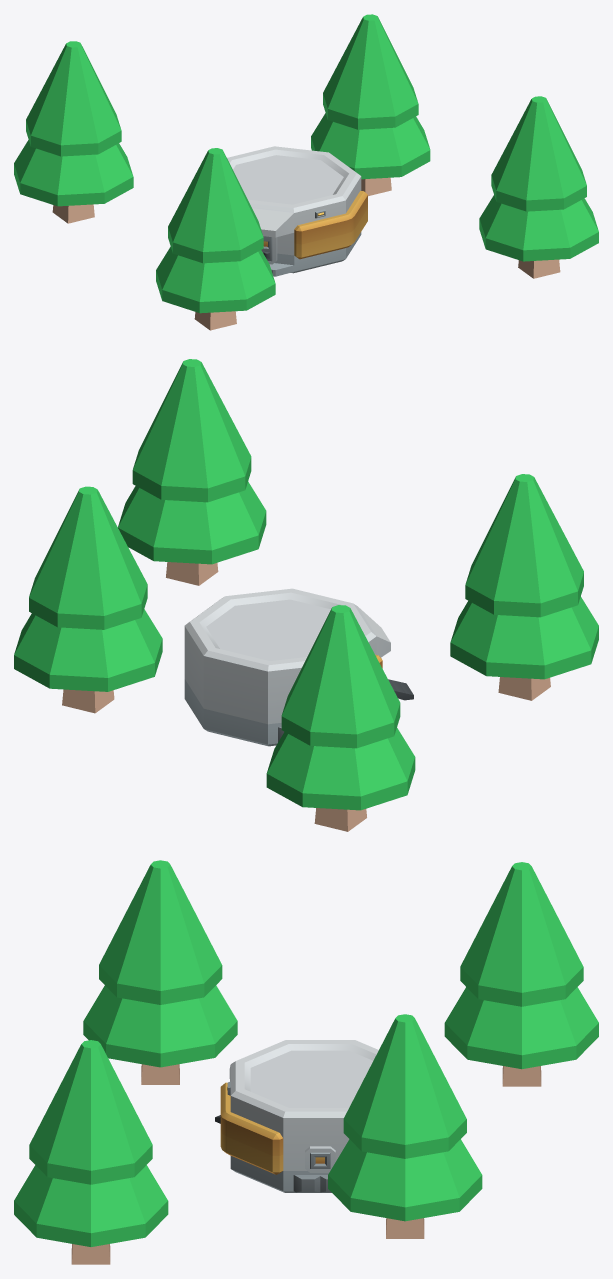
File: ArtificialForest.glb
3 renders of one model, top to bottom at view 1: azimuth 30°, elevation 25°; view 2: azimuth 150°, elevation 25°; view 3: azimuth 270°, elevation 25°, orthographic. The views are drawn at different scales.
Visible parts, largest first — view 1: detail_treeLarge.004, detail_treeLarge.001, detail_treeLarge.003, detail_treeLarge.002, basemodule_A_Cylinder.001; view 2: detail_treeLarge.003, detail_treeLarge.002, detail_treeLarge.004, detail_treeLarge.001, basemodule_A_Cylinder.001; view 3: detail_treeLarge.001, detail_treeLarge.003, detail_treeLarge.002, detail_treeLarge.004, basemodule_A_Cylinder.001.
Boxes of the visible parts, x1,y1,x2,y2 form: detail_treeLarge.004: [156, 148, 275, 330]; detail_treeLarge.001: [479, 96, 598, 278]; detail_treeLarge.003: [14, 41, 133, 223]; detail_treeLarge.002: [311, 14, 430, 196]; basemodule_A_Cylinder.001: [227, 146, 367, 276]; detail_treeLarge.003: [266, 605, 415, 831]; detail_treeLarge.002: [14, 486, 162, 713]; detail_treeLarge.004: [450, 474, 598, 700]; detail_treeLarge.001: [118, 359, 266, 585]; basemodule_A_Cylinder.001: [184, 588, 413, 746]; detail_treeLarge.001: [14, 1040, 168, 1264]; detail_treeLarge.003: [444, 862, 598, 1086]; detail_treeLarge.002: [328, 1014, 482, 1238]; detail_treeLarge.004: [83, 860, 237, 1084]; basemodule_A_Cylinder.001: [215, 1040, 378, 1192].
Size of the model in its own units: 1.88 by 0.76 by 1.9.
Materials: 3 (1 with a texture image).
